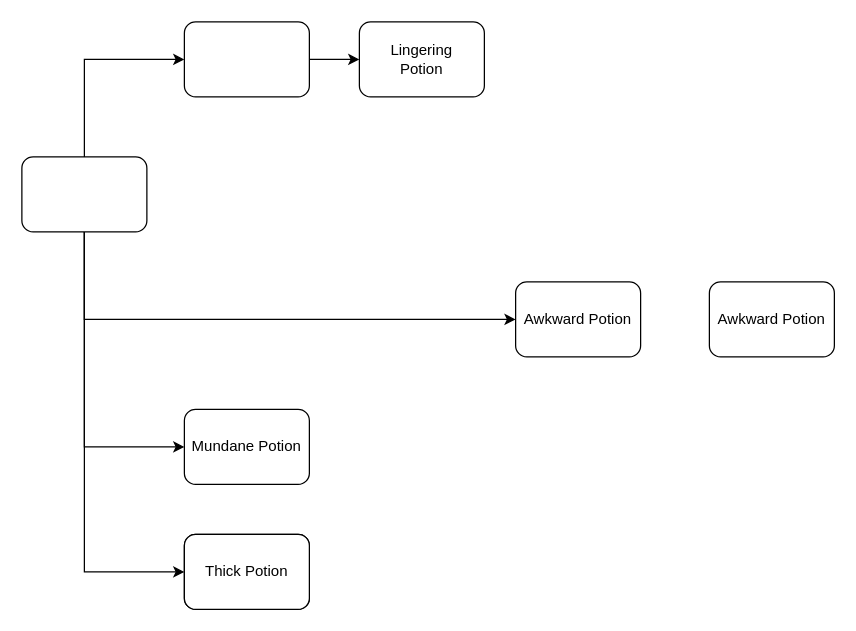
Some shapes in this 856 by 631 pixel diagram are drawn without their labels. The shapes that lost their labels are listed below. From the top down, each one's box as (x1, y1, x2, y2) in pixels, then its label:
(183, 21, 309, 97): Splash Potion
(21, 156, 147, 232): Water Bottle
